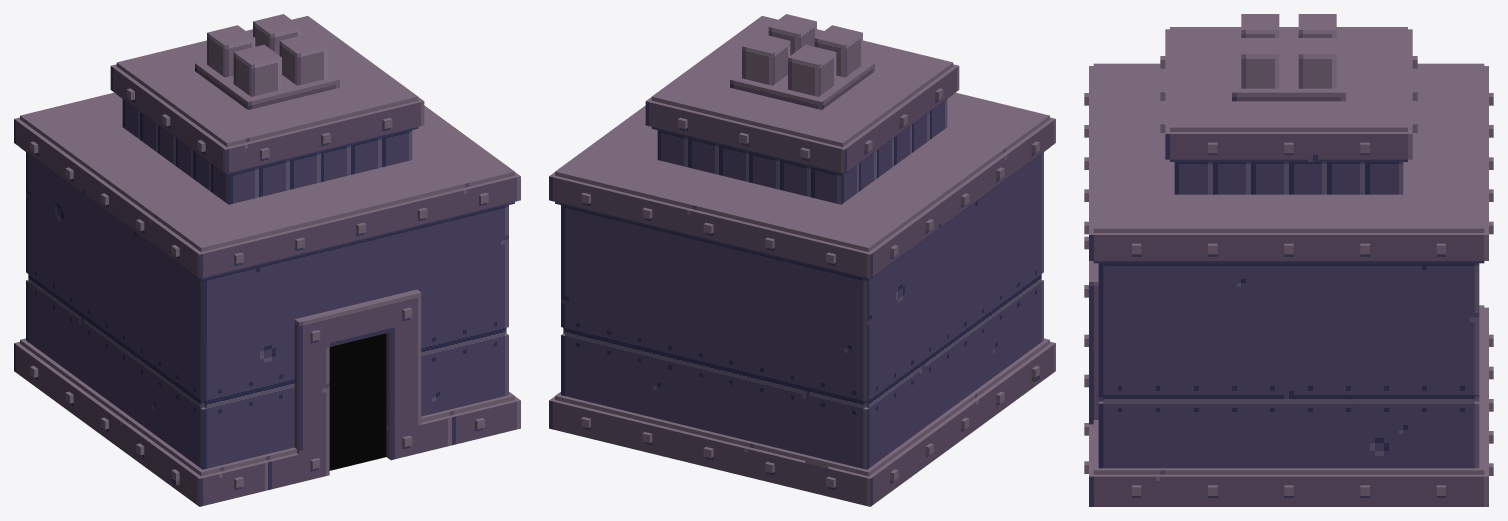
Rendered from gen_baseao.fezao.glb.
The picture shows the model from 3 angles, left to right: view 1: azimuth 30°, elevation 25°; view 2: azimuth 150°, elevation 25°; view 3: azimuth 270°, elevation 25°; orthographic projection. The views are drawn at different scales.
Parts seen in each view (by area): view 1: GEN_BASEAO; view 2: GEN_BASEAO; view 3: GEN_BASEAO.
Boxes of the visible parts, bbox=[...] form: GEN_BASEAO: bbox=[14, 14, 520, 506]; GEN_BASEAO: bbox=[549, 14, 1055, 506]; GEN_BASEAO: bbox=[1084, 14, 1493, 506].
Size of the model in its own units: 5.38 by 5.62 by 5.38.
Materials: 1 (1 with a texture image).
